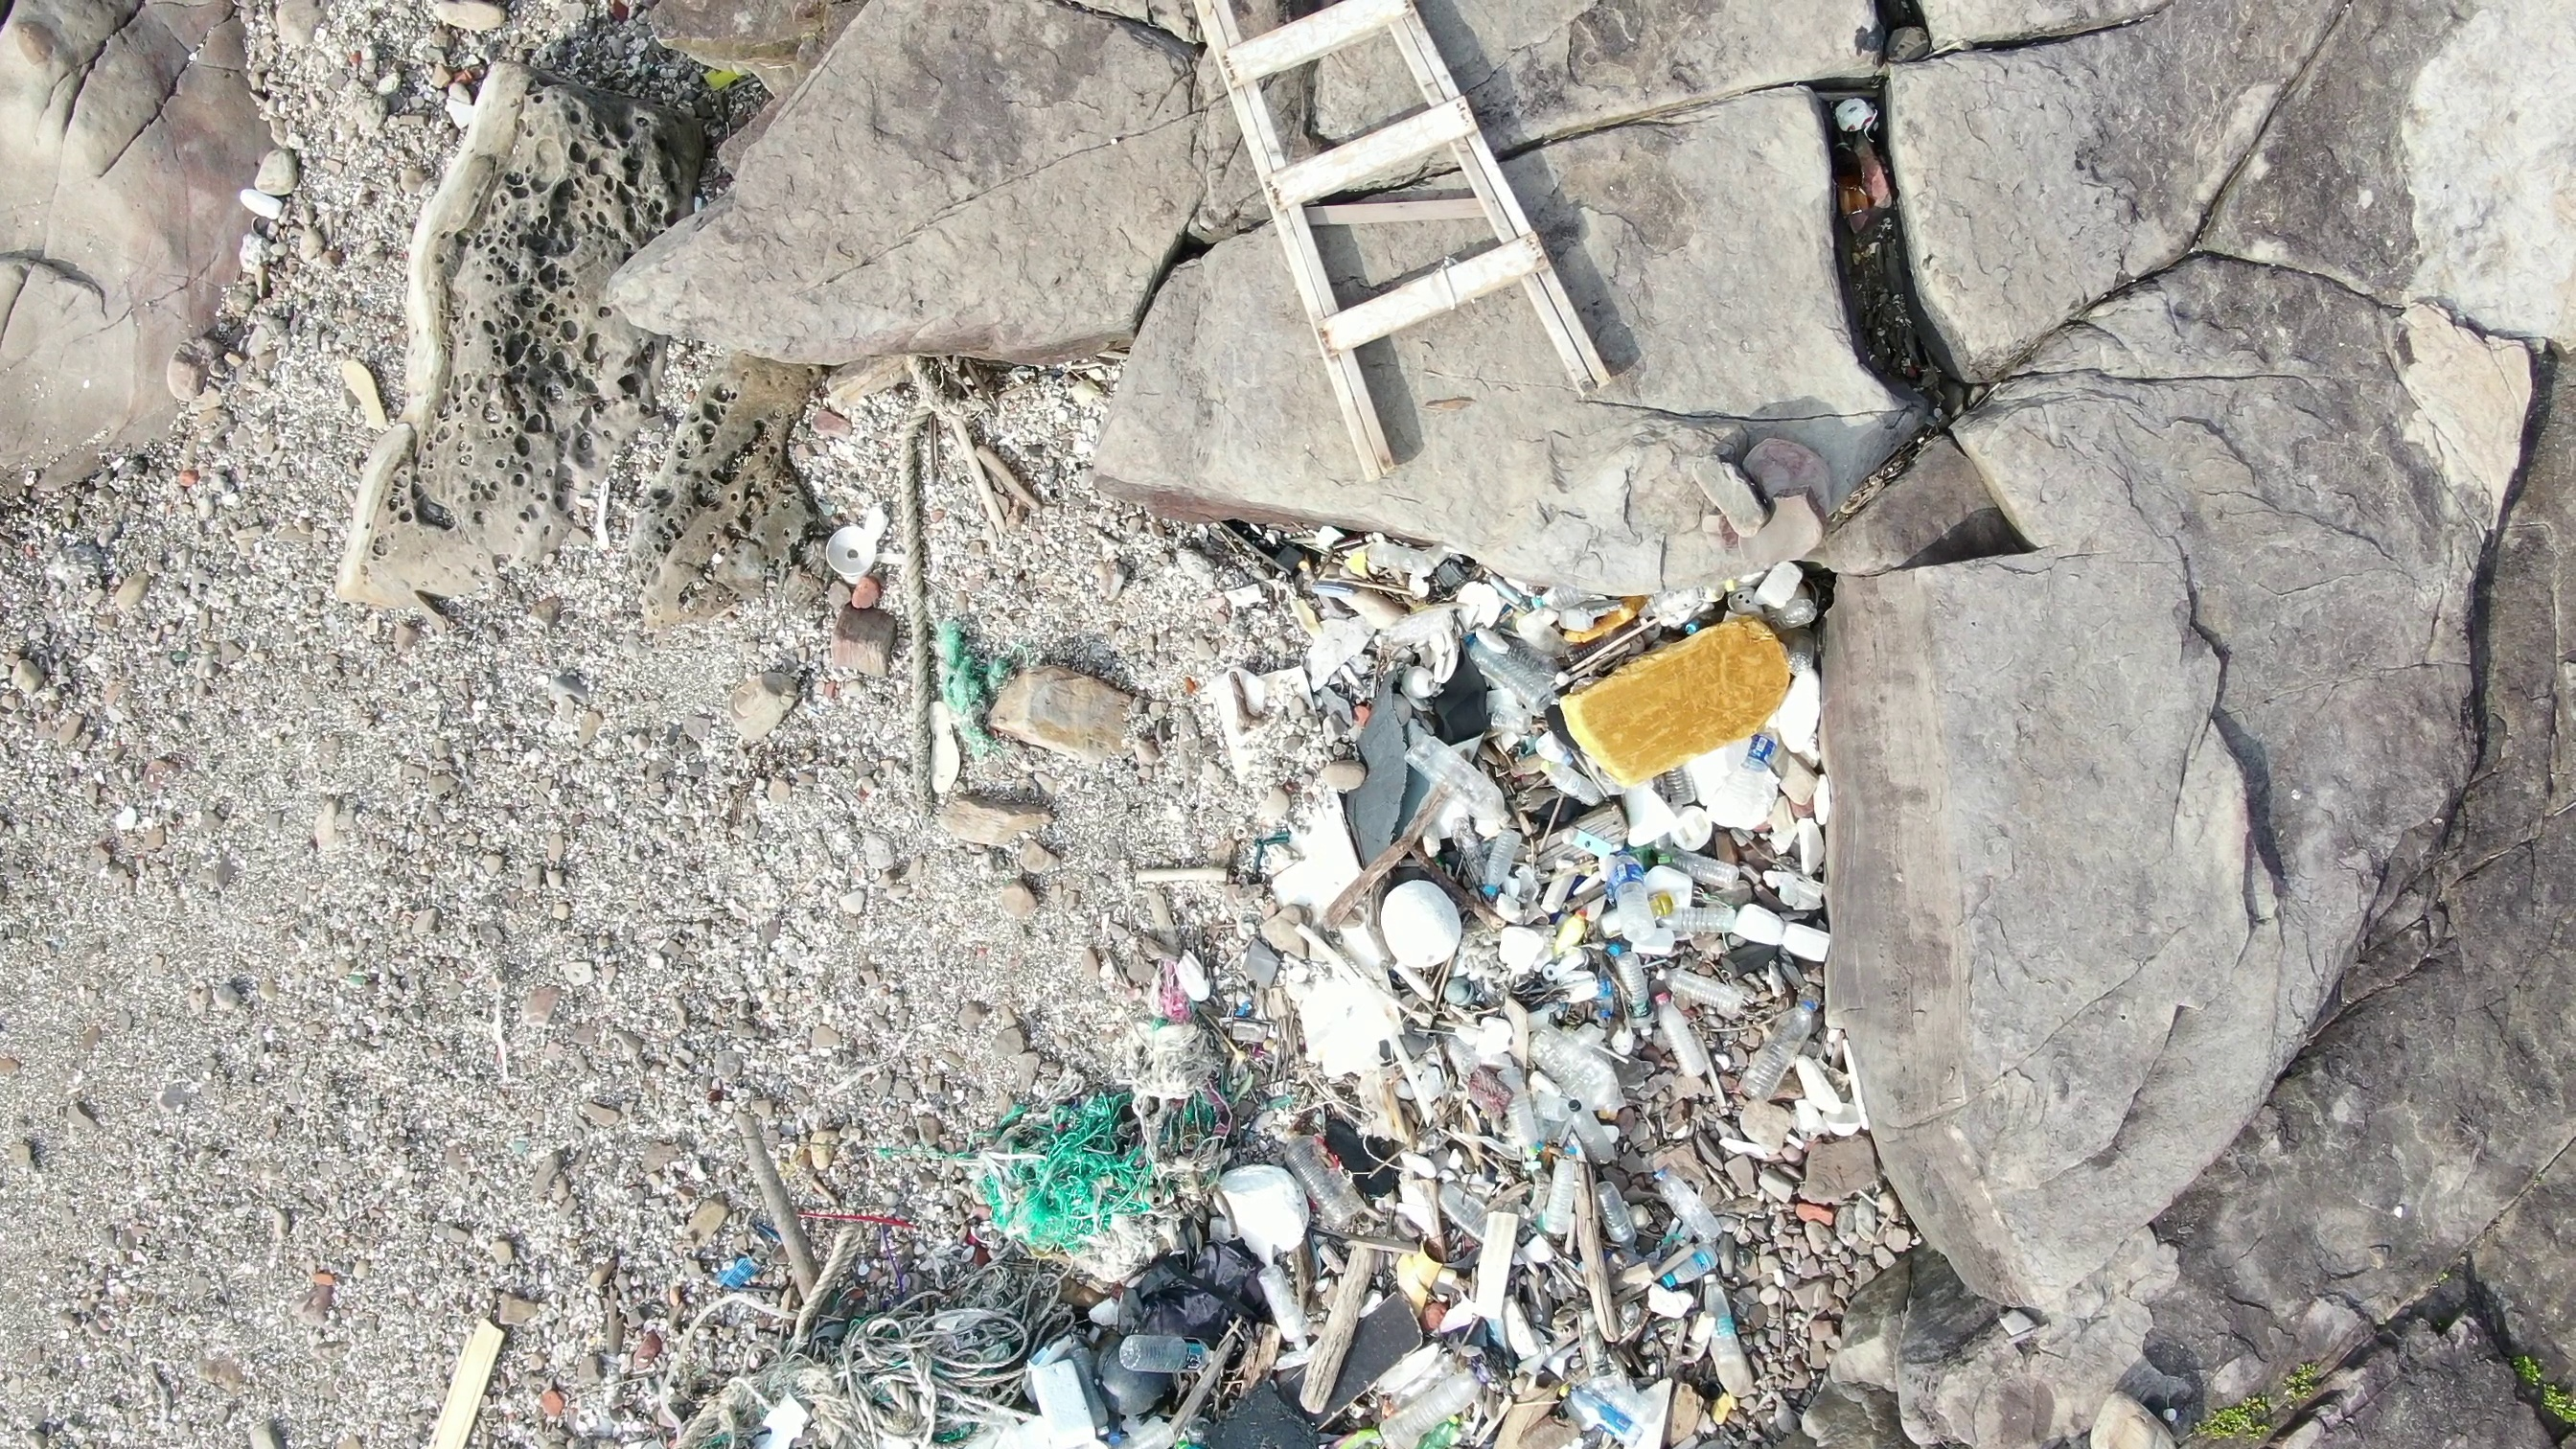bottle: (1407, 727, 1523, 833), (1743, 993, 1833, 1118), (1460, 626, 1571, 709), (1113, 1334, 1233, 1378), (1605, 847, 1652, 948), (1585, 1168, 1629, 1263), (1652, 1249, 1732, 1299), (1470, 830, 1520, 902)
garbage: (1189, 531, 1838, 1449), (1159, 2, 1638, 487), (660, 1049, 1189, 1449), (890, 425, 952, 824), (924, 621, 1030, 761), (1826, 85, 1904, 251)
